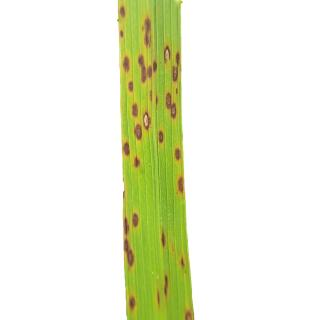bercak-Cokelat: (114, 205, 148, 270), (132, 111, 158, 143), (119, 289, 147, 317), (150, 274, 171, 308), (174, 146, 187, 199), (116, 53, 134, 91), (137, 16, 157, 49), (136, 53, 156, 86), (113, 5, 128, 40), (165, 89, 178, 117), (131, 155, 147, 176), (157, 225, 169, 247), (174, 253, 187, 270), (162, 47, 174, 64), (128, 100, 139, 118), (119, 139, 129, 158), (147, 88, 158, 104), (183, 304, 194, 320), (156, 129, 166, 143)
